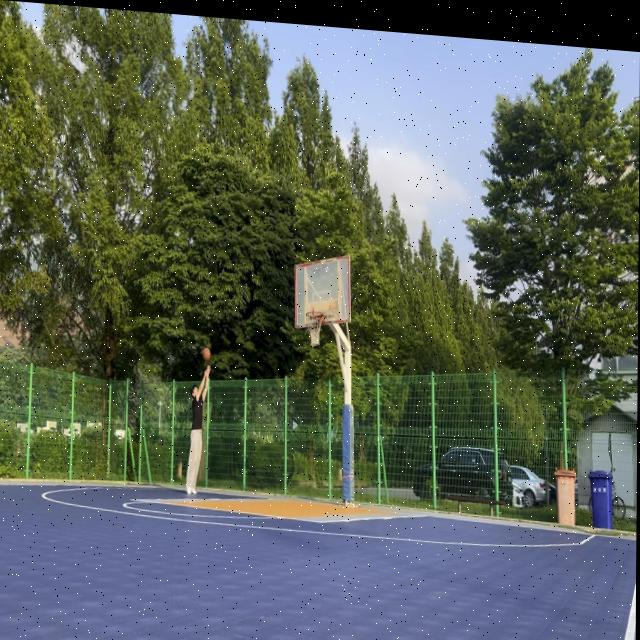basketball: (202, 348, 211, 362)
hoop: (305, 310, 324, 349)
